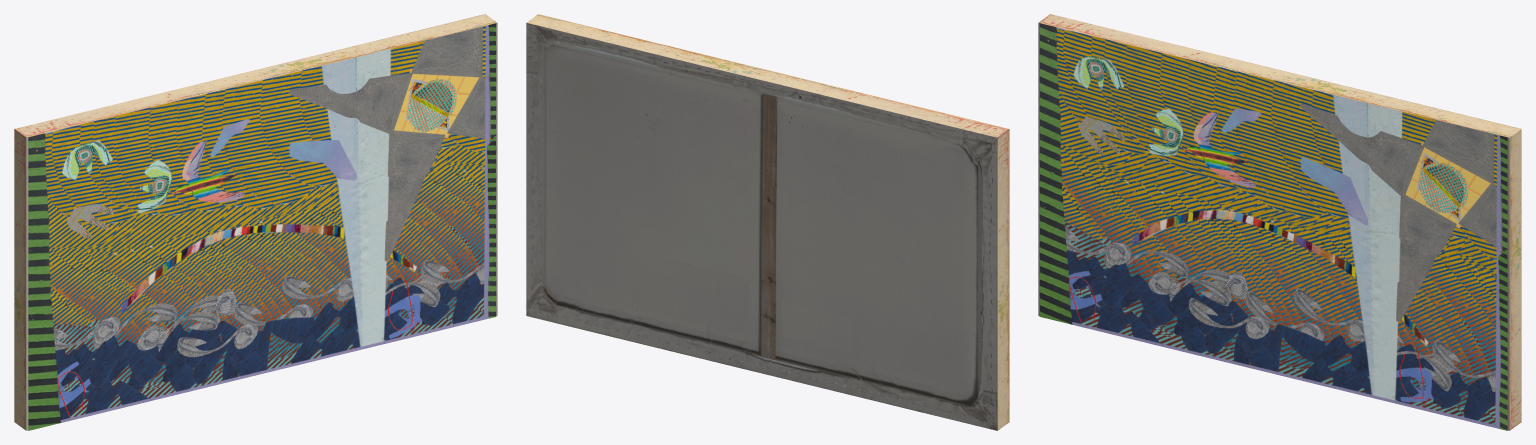
File: icarus-with-birds-b53fc2b6.glb
3 views of the same model, side by side, from view 1: azimuth 30°, elevation 25°; view 2: azimuth 150°, elevation 25°; view 3: azimuth 330°, elevation 25° (orthographic).
Visible parts, largest first — view 1: Canvas, stretcher5by3; view 2: stretcher5by3; view 3: Canvas, stretcher5by3.
Part boxes in pixels (bbox=[...]): Canvas: bbox=[28, 23, 496, 430]; stretcher5by3: bbox=[14, 14, 497, 430]; stretcher5by3: bbox=[526, 14, 1009, 430]; Canvas: bbox=[1039, 23, 1507, 430]; stretcher5by3: bbox=[1038, 14, 1521, 430].
Bounding box in the file's own units: 5.09 × 3.03 × 0.2302.
5 materials, 5 textured.
